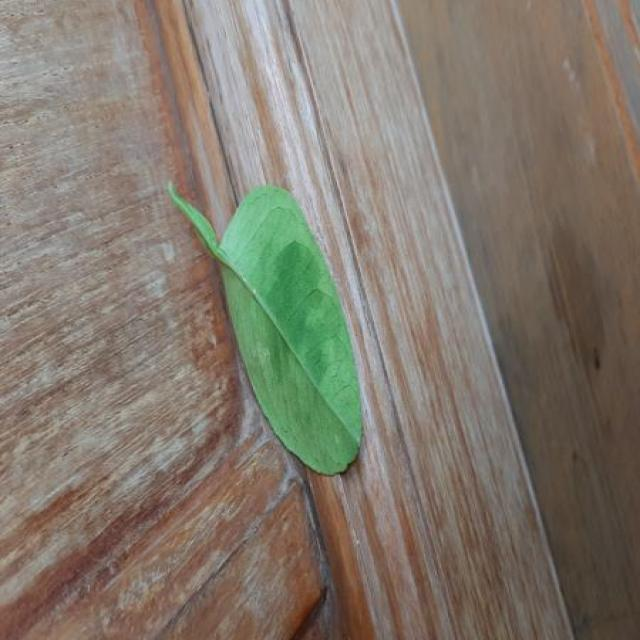lemon: (169, 185, 360, 474)
